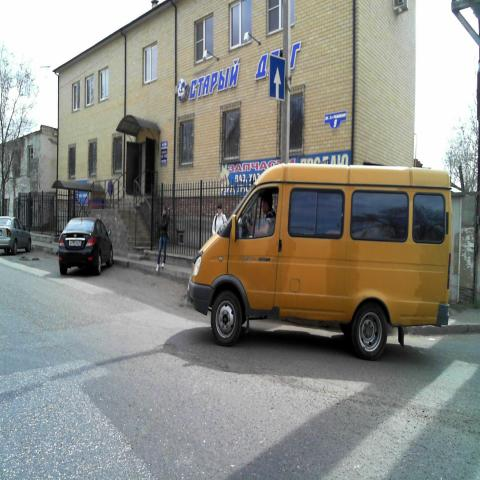5_5: (269, 55, 285, 101)
